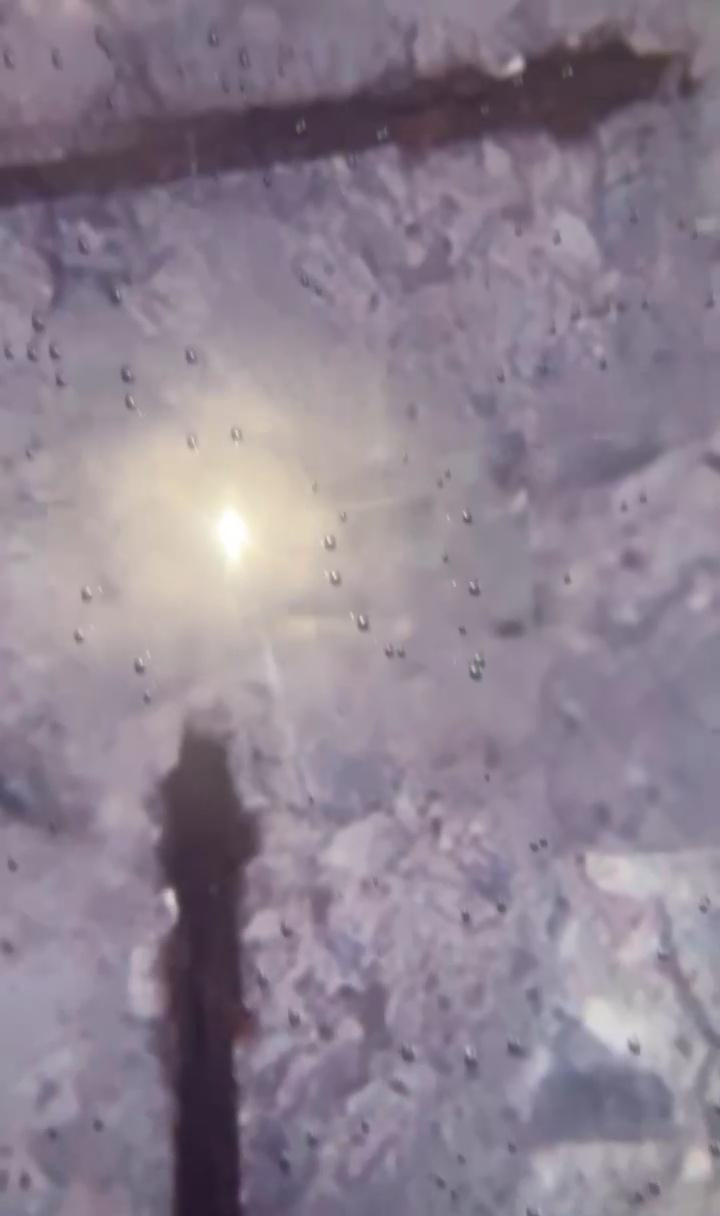Exposed reinforcement: (1, 32, 690, 215), (158, 719, 264, 1216)
